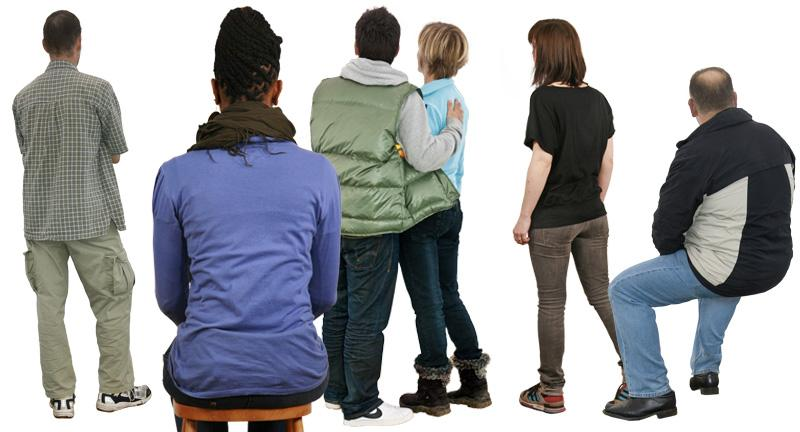coat: (650, 107, 797, 292)
long sleeve shirt: (150, 137, 342, 385)
short sleeve shirt: (10, 59, 130, 241), (522, 83, 618, 233)
sweater: (339, 56, 464, 175)
trousers: (24, 219, 137, 399), (607, 249, 742, 398), (526, 212, 625, 389), (322, 228, 399, 418), (399, 198, 483, 370), (162, 368, 332, 432)
